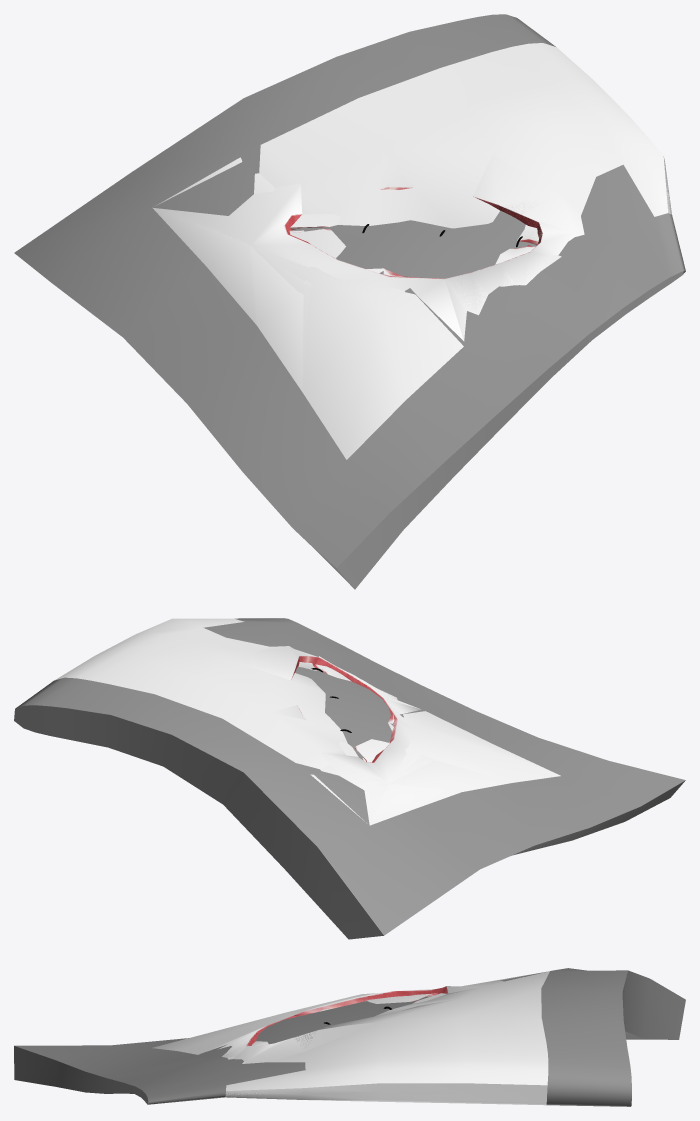
The model's file is Aponevroz.FBX.
3 renders of one model, top to bottom at view 1: azimuth 30°, elevation 25°; view 2: azimuth 150°, elevation 25°; view 3: azimuth 270°, elevation 25°, orthographic. The views are drawn at different scales.
Visible parts, largest first — view 1: aponevroz, aponevroz seam 4, aponevroz seam 2, aponevroz seam 1, aponevroz seam 3; view 2: aponevroz, aponevroz seam 4, aponevroz seam 1, aponevroz seam 2, aponevroz seam 3; view 3: aponevroz, aponevroz seam 4, aponevroz seam 2, aponevroz seam 1.
Boxes of the visible parts, box(x1,y1,x2,y2) form: aponevroz: box(14, 14, 685, 589); aponevroz seam 4: box(153, 43, 671, 459); aponevroz seam 2: box(153, 43, 671, 341); aponevroz seam 1: box(154, 150, 554, 390); aponevroz seam 3: box(156, 157, 444, 391); aponevroz: box(14, 618, 685, 939); aponevroz seam 4: box(54, 618, 560, 825); aponevroz seam 1: box(263, 653, 505, 823); aponevroz seam 2: box(66, 619, 420, 824); aponevroz seam 3: box(310, 696, 510, 822); aponevroz: box(14, 968, 685, 1106); aponevroz seam 4: box(152, 971, 549, 1105); aponevroz seam 2: box(204, 1008, 548, 1104); aponevroz seam 1: box(224, 972, 542, 1056).
Size of the model in its own units: 96.34 by 44.25 by 115.
